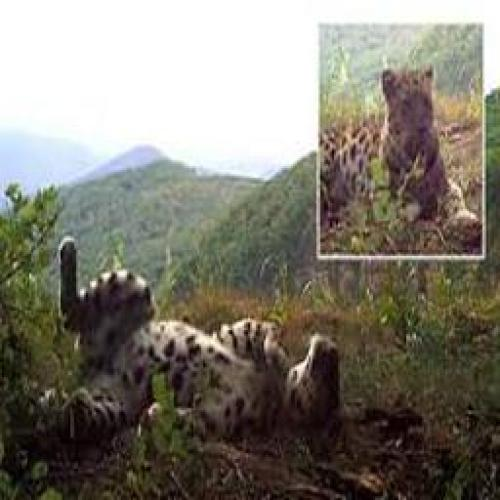amur_leopard-endangered: (46, 240, 368, 448), (380, 66, 488, 246)
